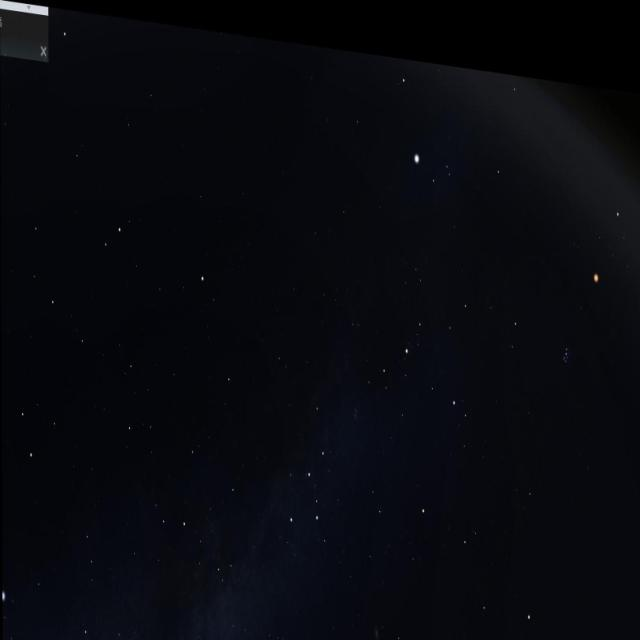cassiopeia: (286, 379, 346, 543)
pleiades: (560, 317, 580, 357)
